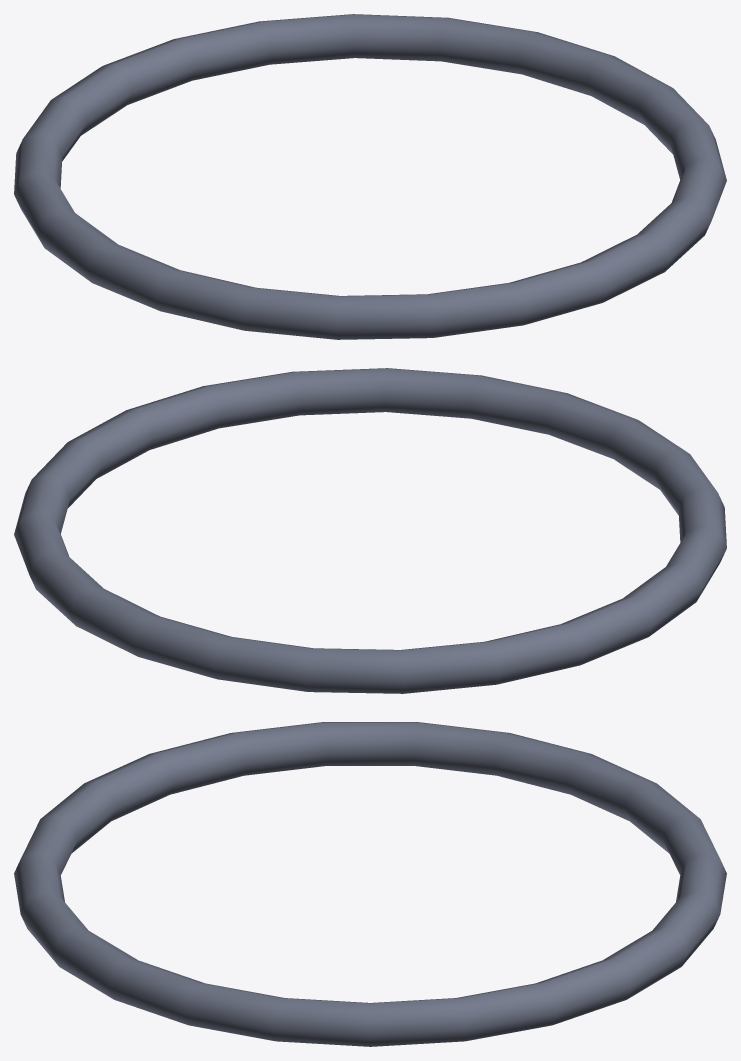
The model's file is daaaa.fbx.
The picture shows the model from 3 angles, top to bottom: view 1: azimuth 30°, elevation 25°; view 2: azimuth 150°, elevation 25°; view 3: azimuth 270°, elevation 25°; orthographic projection.
Parts seen in each view (by area): view 1: Torus.001; view 2: Torus.001; view 3: Torus.001.
Boxes of the visible parts, bbox=[...] form: Torus.001: bbox=[14, 14, 726, 339]; Torus.001: bbox=[14, 368, 726, 693]; Torus.001: bbox=[14, 722, 726, 1046].
Bounding box in the file's own units: 213 × 14 × 214.
